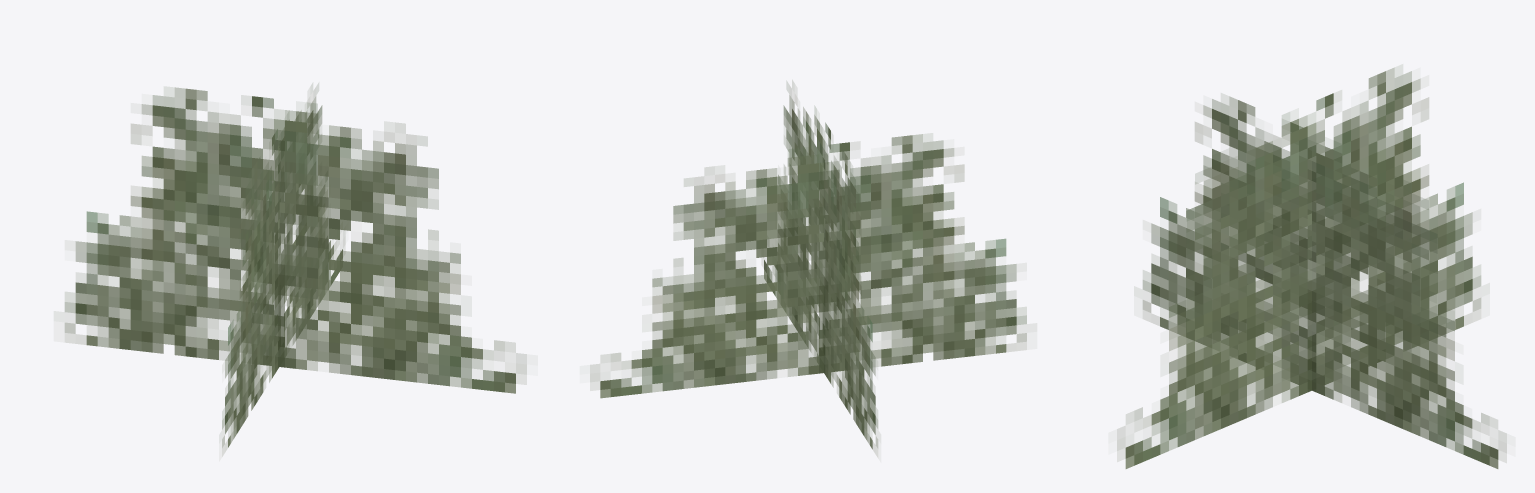
Rendered from kenney-retro-fantasy-tree-shrub.glb.
3 renders of one model, left to right at view 1: azimuth 30°, elevation 25°; view 2: azimuth 150°, elevation 25°; view 3: azimuth 270°, elevation 25°, orthographic. The views are drawn at different scales.
Visible parts, largest first — view 1: tree-shrub; view 2: tree-shrub; view 3: tree-shrub.
Boxes of the visible parts, x1,y1,x2,y2 form: tree-shrub: (64, 83, 526, 455); tree-shrub: (590, 80, 1026, 456); tree-shrub: (1117, 65, 1506, 468).
Bounding box in the file's own units: 0.9192 × 0.7 × 0.9192.
Materials: 1 (1 with a texture image).
